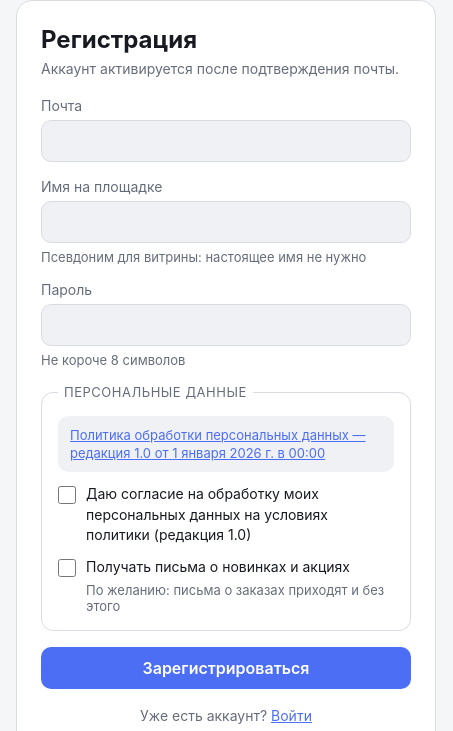
Test case: 409 при действующей редакции — это занятая почта
expect the link "редакция 1.0" is shown: met, box [70, 427, 366, 461]
Type "newbie@universe.test" into the field labelled "Почта" at [226, 141], box [41, 120, 411, 162]
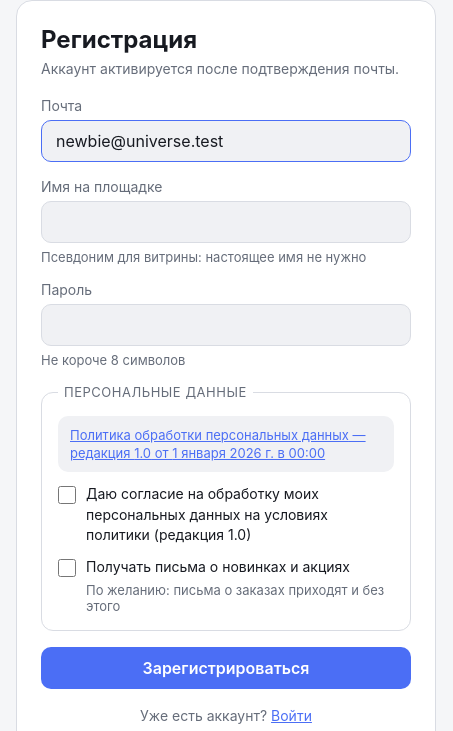
Type "Новичок" into the field labelled "Имя на площадке" at [226, 222], box [41, 201, 411, 243]
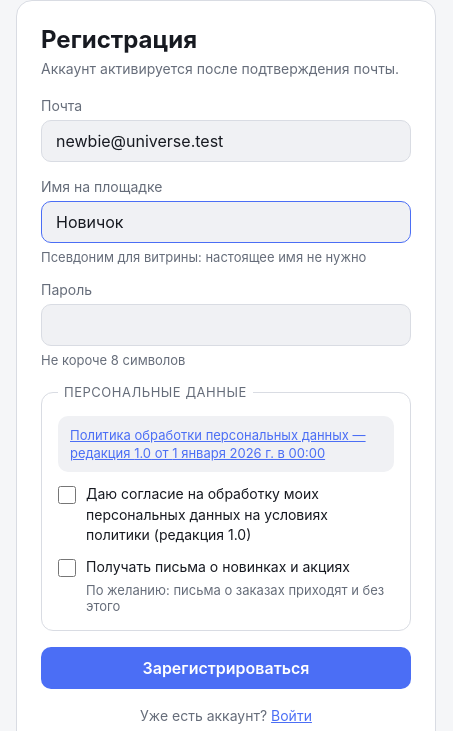
Type "password1" into the password field labelled "Пароль" at [226, 325], box [41, 304, 411, 346]
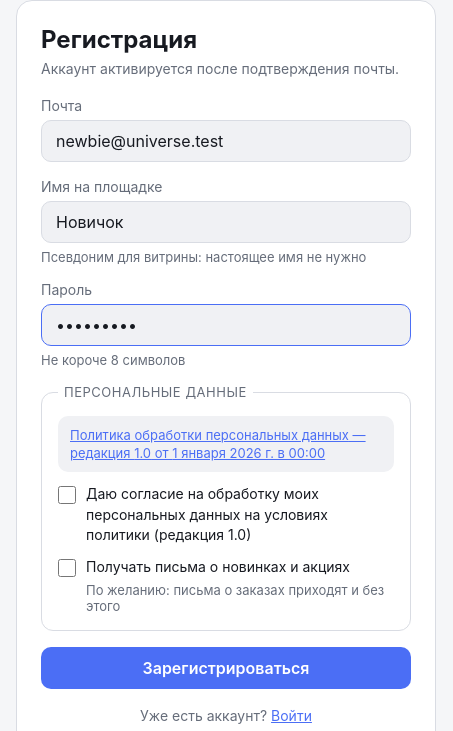
Click the checkbox labelled "Даю согласие на обработку" at [67, 495], box [58, 486, 76, 504]
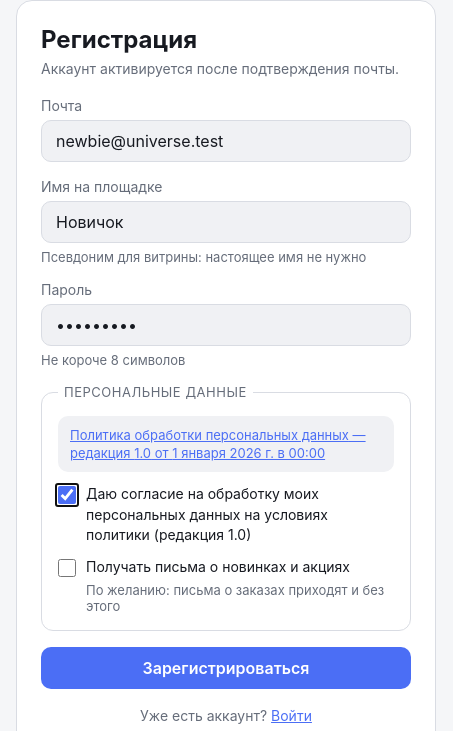
Click the button "Зарегистрироваться" at [226, 668], box [41, 647, 411, 689]
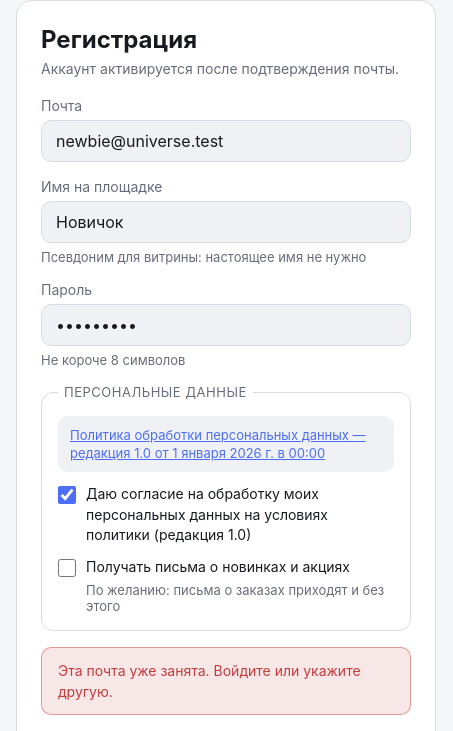
expect the message shows "Эта почта уже занята": met, box [58, 662, 361, 700]
